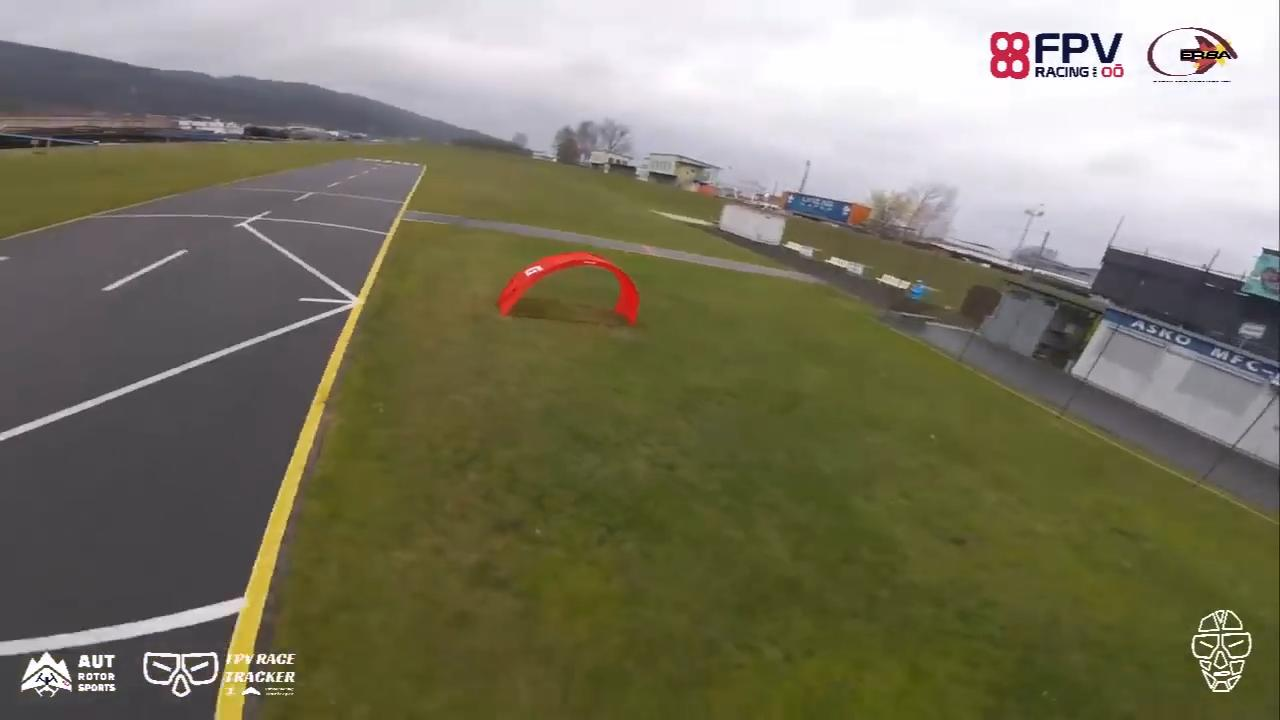gate: (497, 250, 640, 327)
